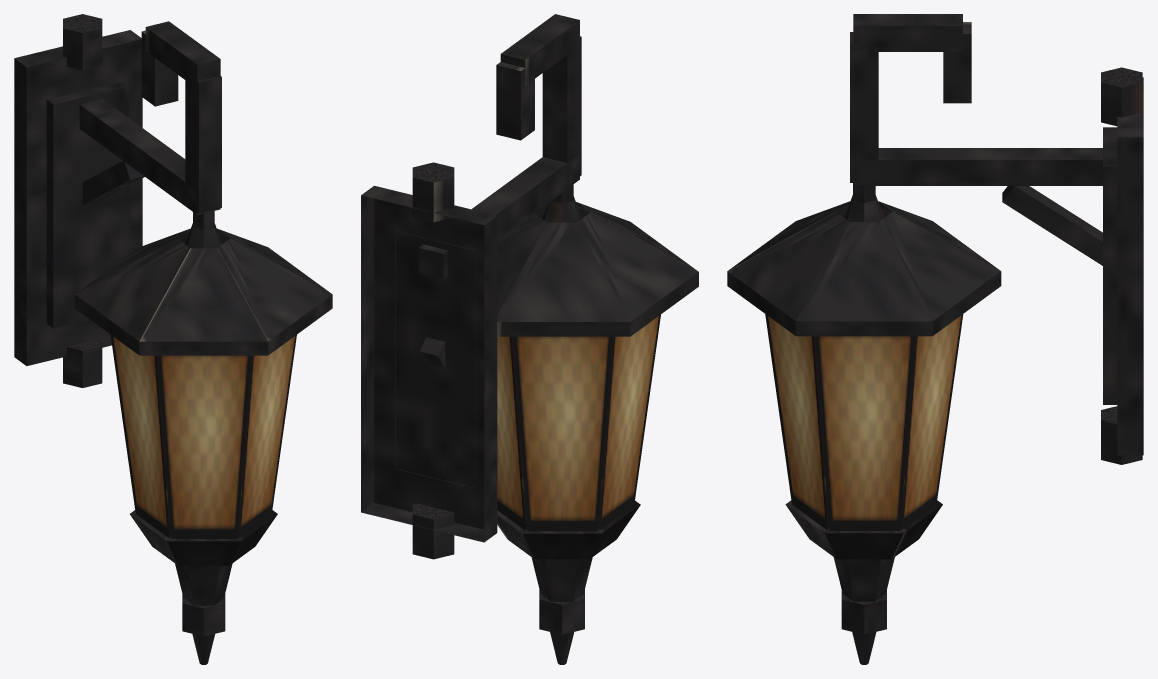
File: Furn_Lamp_Wall.fbx
3 renders of one model, left to right at view 1: azimuth 30°, elevation 25°; view 2: azimuth 150°, elevation 25°; view 3: azimuth 270°, elevation 25°, orthographic. The views are drawn at different scales.
Parts seen in each view (by area): view 1: Furn_Lamp_Wall, Furn_Lamp_Wall_Glass; view 2: Furn_Lamp_Wall, Furn_Lamp_Wall_Glass; view 3: Furn_Lamp_Wall, Furn_Lamp_Wall_Glass.
Part boxes in pixels (x1,y1,x2,y2): Furn_Lamp_Wall: (14, 14, 332, 664); Furn_Lamp_Wall_Glass: (110, 335, 296, 538); Furn_Lamp_Wall: (361, 14, 698, 664); Furn_Lamp_Wall_Glass: (497, 314, 660, 531); Furn_Lamp_Wall: (727, 14, 1143, 664); Furn_Lamp_Wall_Glass: (765, 314, 963, 530).
Size of the model in its own units: 0.2165 by 0.648 by 0.38.
